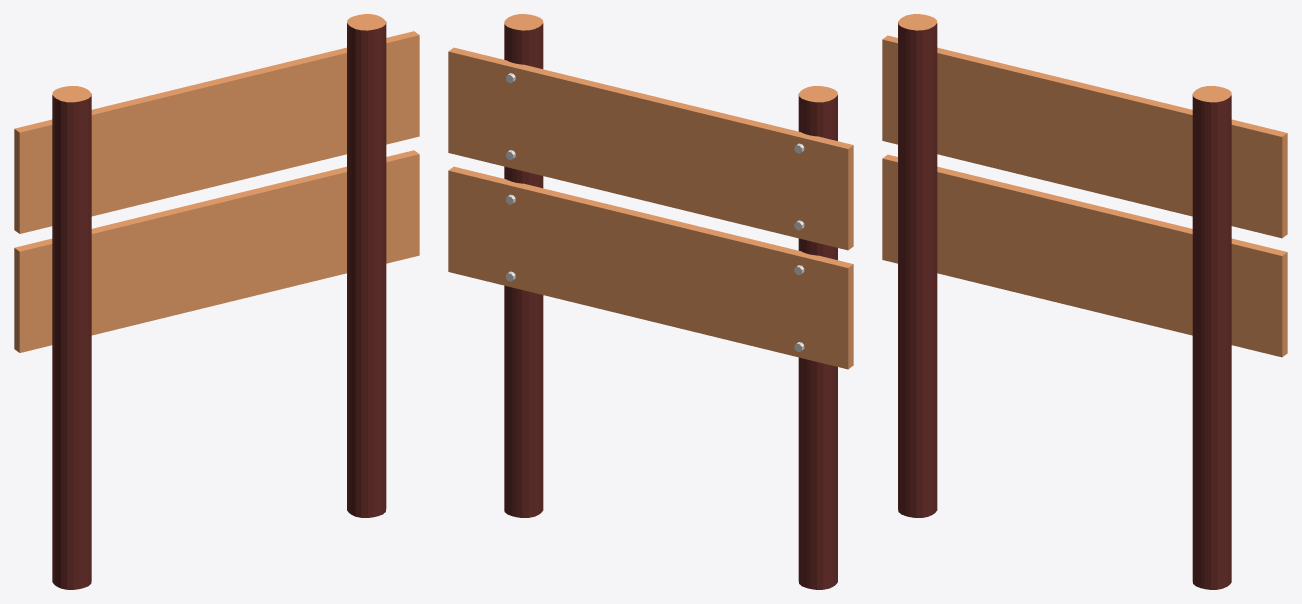
Rendered from WoddenSign.fbx.
The picture shows the model from 3 angles, left to right: view 1: azimuth 30°, elevation 25°; view 2: azimuth 150°, elevation 25°; view 3: azimuth 330°, elevation 25°; orthographic projection.
Parts seen in each view (by area): view 1: Cube.002, Cube.001, Cube, Cube.003; view 2: Cube.002, Cube.001, Cube, Cube.003; view 3: Cube.001, Cube.002, Cube, Cube.003.
Part boxes in pixels (<box>): Cube.002: <box>14,150,419,352</box>; Cube.001: <box>14,31,419,233</box>; Cube: <box>52,86,91,589</box>; Cube.003: <box>347,14,386,517</box>; Cube.002: <box>448,166,853,369</box>; Cube.001: <box>448,47,853,250</box>; Cube: <box>798,86,837,589</box>; Cube.003: <box>504,14,543,517</box>; Cube.001: <box>882,35,1287,238</box>; Cube.002: <box>882,154,1287,357</box>; Cube: <box>898,14,937,517</box>; Cube.003: <box>1192,86,1231,589</box>.
Size of the model in its own units: 983 by 1145 by 109.
